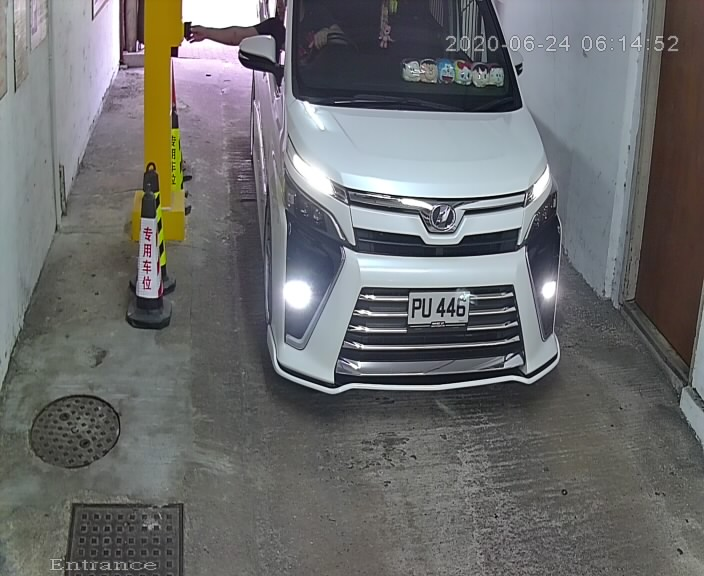privatecar: (231, 1, 570, 412)
